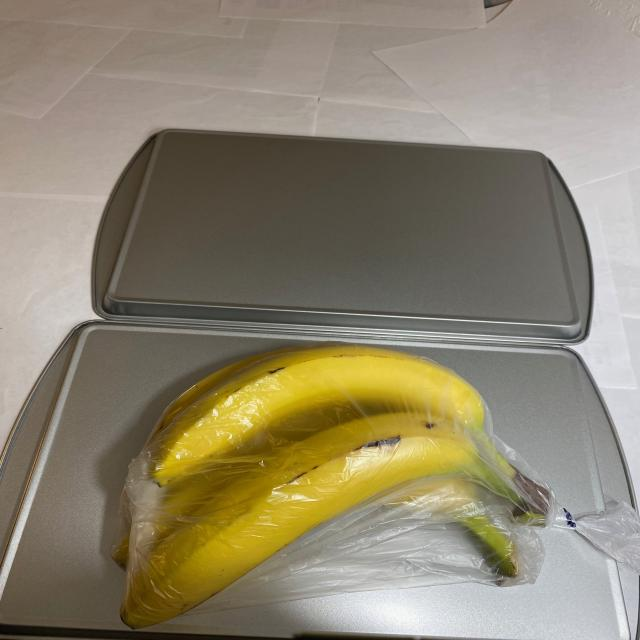banana: (98, 341, 571, 632)
